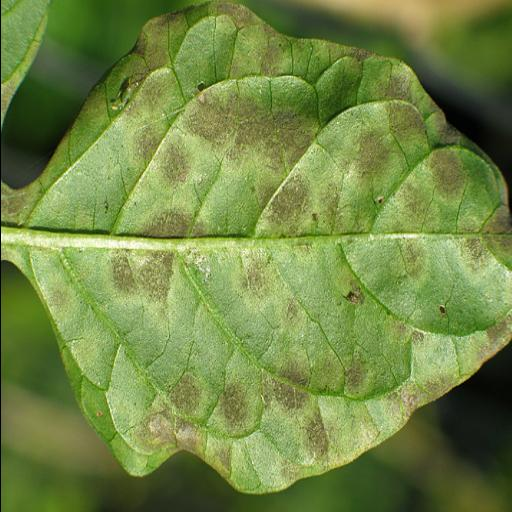disease_tomato: (25, 0, 512, 503)
